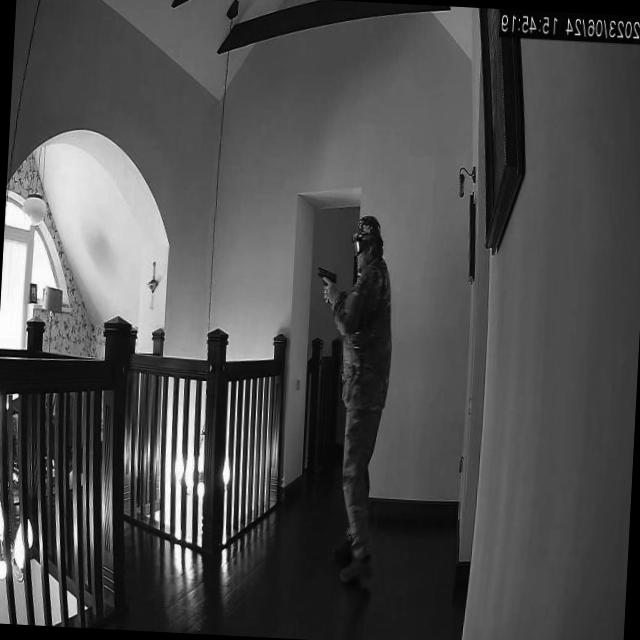gun: (316, 266, 337, 302)
person with a gun: (323, 212, 399, 586)
